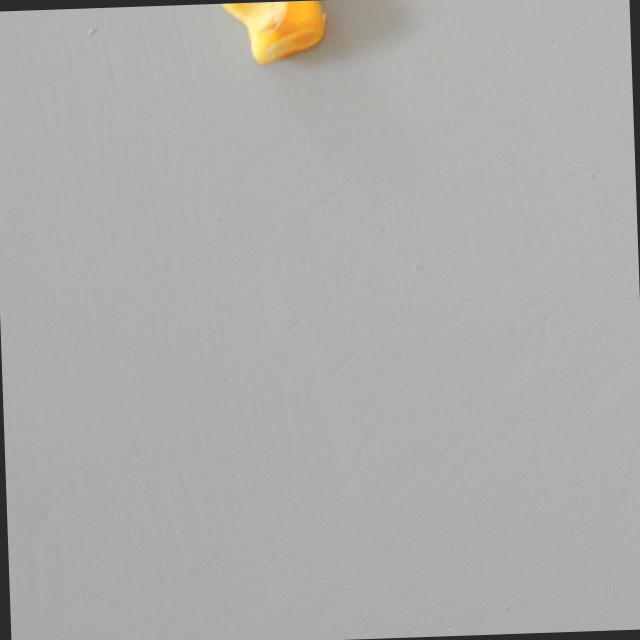pelicula: (220, 0, 330, 67)
